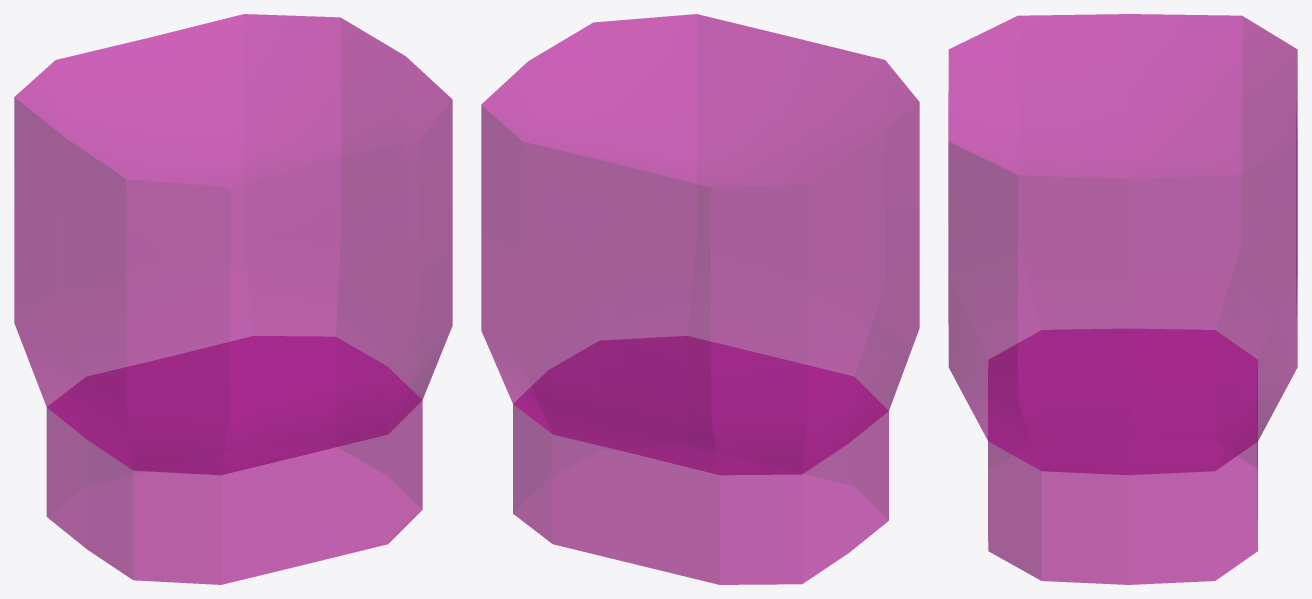
Rendered from SM_Prop_Satellite_Large_01_Swivel_01_Collision.fbx.
The picture shows the model from 3 angles, left to right: view 1: azimuth 30°, elevation 25°; view 2: azimuth 150°, elevation 25°; view 3: azimuth 270°, elevation 25°; orthographic projection.
Parts seen in each view (by area): view 1: SM_Prop_Satellite_Large_01_Swivel_01_Collision; view 2: SM_Prop_Satellite_Large_01_Swivel_01_Collision; view 3: SM_Prop_Satellite_Large_01_Swivel_01_Collision.
Part boxes in pixels (x1,y1,x2,y2): SM_Prop_Satellite_Large_01_Swivel_01_Collision: [14, 14, 452, 584]; SM_Prop_Satellite_Large_01_Swivel_01_Collision: [481, 14, 919, 584]; SM_Prop_Satellite_Large_01_Swivel_01_Collision: [948, 14, 1297, 584].
Size of the model in its own units: 619 by 724 by 552.
